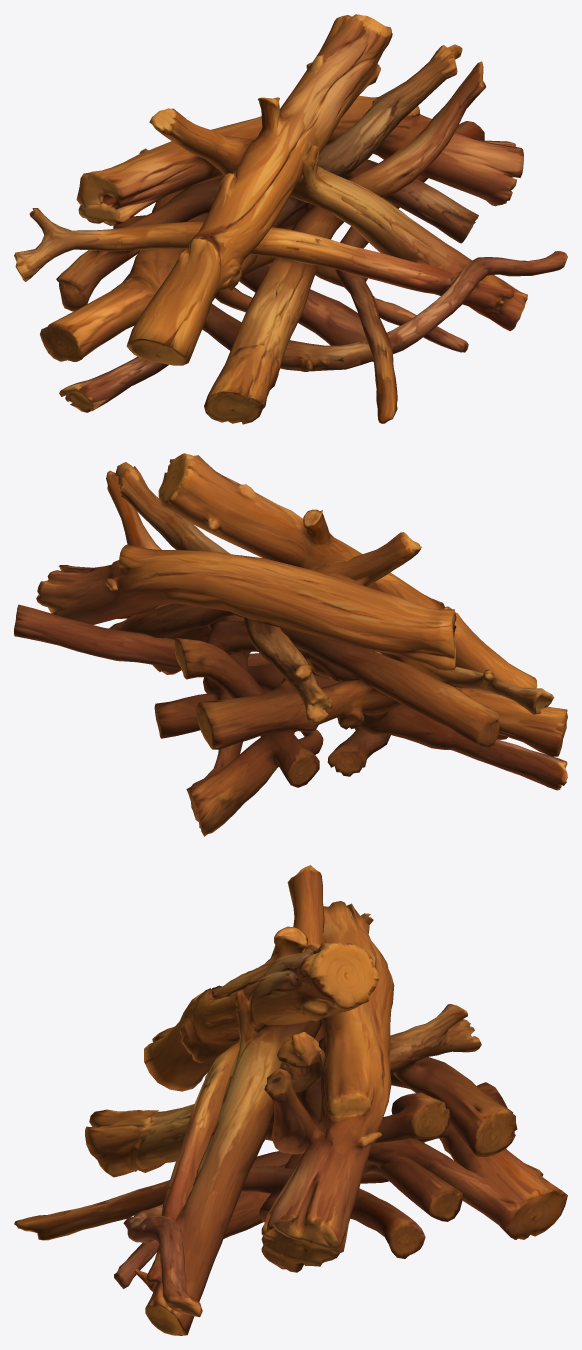
The model's file is branch-pile.glb.
The picture shows the model from 3 angles, top to bottom: view 1: azimuth 30°, elevation 25°; view 2: azimuth 150°, elevation 25°; view 3: azimuth 270°, elevation 25°; orthographic projection. The views are drawn at different scales.
Visible parts, largest first — view 1: tripo_node_c2c24280-5a0b-4ac4-b5f2-b56523b89610; view 2: tripo_node_c2c24280-5a0b-4ac4-b5f2-b56523b89610; view 3: tripo_node_c2c24280-5a0b-4ac4-b5f2-b56523b89610.
Boxes of the visible parts, x1,y1,x2,y2 form: tripo_node_c2c24280-5a0b-4ac4-b5f2-b56523b89610: (14,14,567,424); tripo_node_c2c24280-5a0b-4ac4-b5f2-b56523b89610: (14,453,567,836); tripo_node_c2c24280-5a0b-4ac4-b5f2-b56523b89610: (14,865,567,1335).
Bounding box in the file's own units: 0.9815 × 0.5435 × 0.7778.
Materials: 1 (1 with a texture image).
